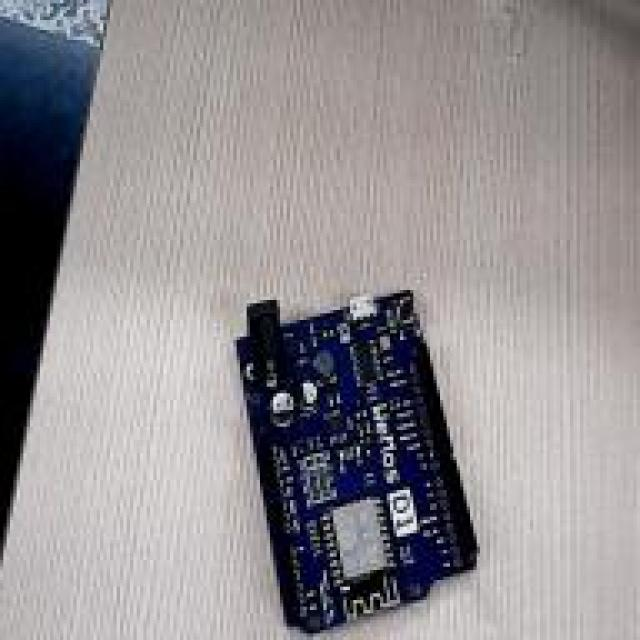Wemos: (238, 291, 474, 631)
